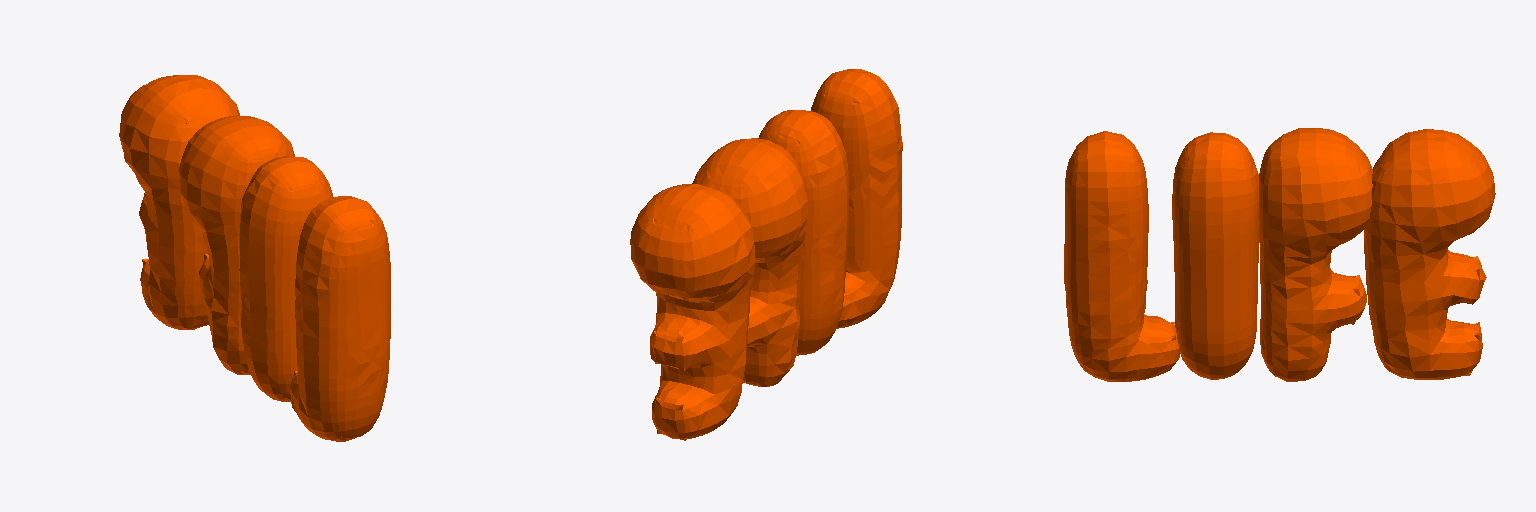
The model's file is 07_life.obj.
The picture shows the model from 3 angles: view 1: azimuth 30°, elevation 25°; view 2: azimuth 150°, elevation 25°; view 3: azimuth 270°, elevation 25°; orthographic projection.
Visible parts, largest first — view 1: _life:life; view 2: _life:life; view 3: _life:life.
Part boxes in pixels (bbox=[...]): _life:life: bbox=[119, 75, 390, 441]; _life:life: bbox=[630, 69, 902, 440]; _life:life: bbox=[1064, 128, 1495, 381].
Size of the model in its own units: 0.1171 by 0.2554 by 0.4095.